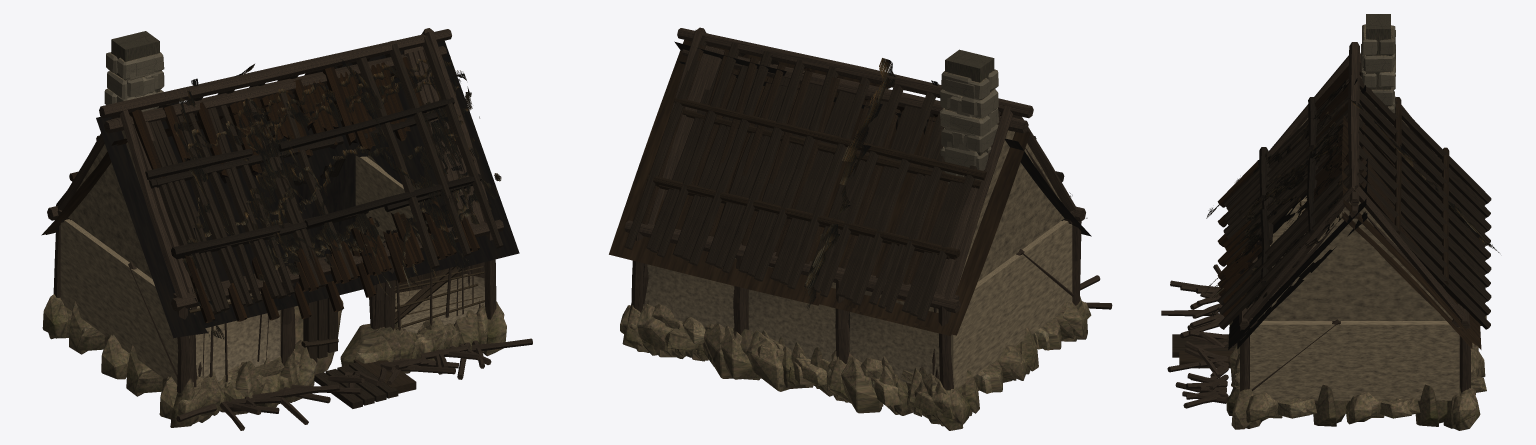
File: env_stage1_kit.glb
3 views of the same model, side by side, from view 1: azimuth 30°, elevation 25°; view 2: azimuth 150°, elevation 25°; view 3: azimuth 270°, elevation 25° (orthographic). The views are drawn at different scales.
Parts seen in each view (by area): view 1: hut_7, hut_3, hut_11, hut_13, hut_5, straw_3, hut_19, straw_13, straw_11, straw_19, straw_7, hut_17; view 2: hut_7, hut_3, hut_11, hut_13, hut_5, hut_17, straw_7, hut_19; view 3: hut_7, hut_3, hut_13, hut_11, hut_5, straw_7, hut_19, straw_13, straw_3, straw_11, hut_17, straw_19.
Boxes of the visible parts, <box> form: hut_7: <box>42,28,532,427</box>; hut_3: <box>46,31,487,423</box>; hut_11: <box>69,49,484,422</box>; hut_13: <box>41,33,484,430</box>; hut_5: <box>116,48,491,414</box>; straw_3: <box>236,57,479,299</box>; hut_19: <box>70,63,480,397</box>; straw_13: <box>243,60,501,288</box>; straw_11: <box>188,111,436,287</box>; straw_19: <box>266,72,470,259</box>; straw_7: <box>174,59,469,339</box>; hut_17: <box>176,63,469,421</box>; hut_7: <box>609,27,1091,430</box>; hut_3: <box>637,46,1069,418</box>; hut_11: <box>653,49,1063,414</box>; hut_13: <box>643,45,1100,426</box>; hut_5: <box>663,48,1016,424</box>; hut_17: <box>646,80,1112,418</box>; straw_7: <box>805,58,1087,308</box>; hut_19: <box>652,58,1062,390</box>; hut_7: <box>1161,14,1491,430</box>; hut_3: <box>1189,18,1486,421</box>; hut_13: <box>1167,16,1472,428</box>; hut_11: <box>1179,76,1478,404</box>; hut_5: <box>1180,75,1459,405</box>; straw_7: <box>1206,78,1499,316</box>; hut_19: <box>1186,103,1481,388</box>; straw_13: <box>1214,132,1340,308</box>; straw_3: <box>1204,124,1343,297</box>; straw_11: <box>1212,108,1337,298</box>; hut_17: <box>1180,161,1476,392</box>; straw_19: <box>1245,150,1332,293</box>.
Size of the model in its own units: 7.12 by 7.05 by 6.88.
Materials: 2 (2 with a texture image).
